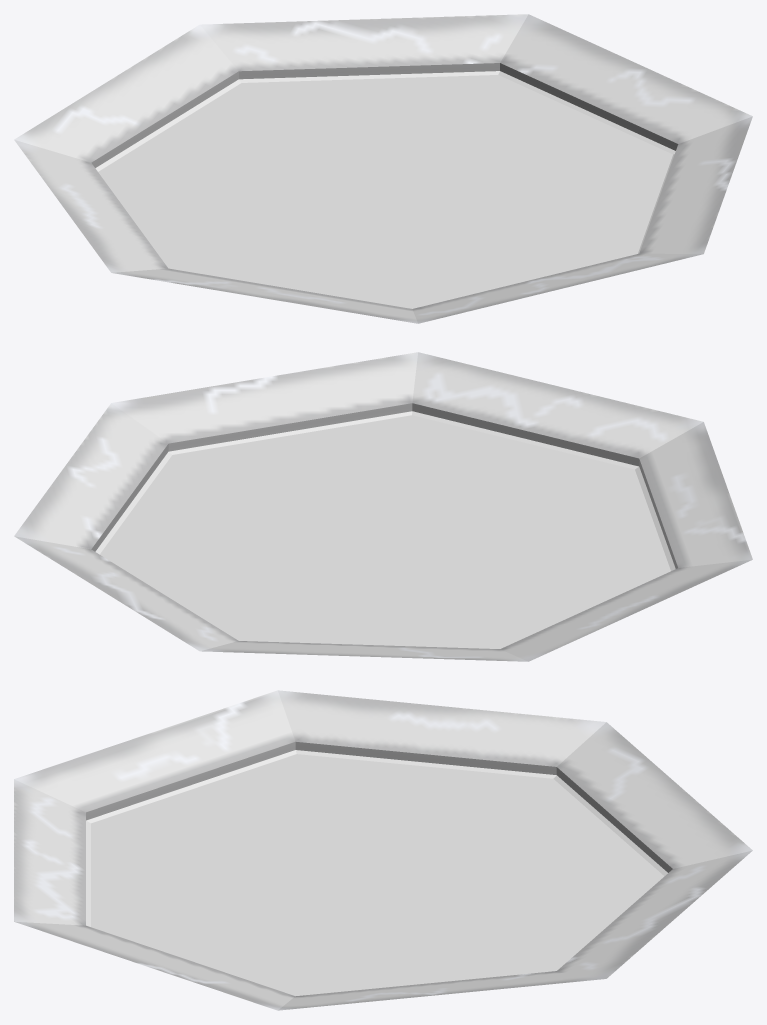
File: plate.fbx
3 views of the same model, one above another, from view 1: azimuth 30°, elevation 25°; view 2: azimuth 150°, elevation 25°; view 3: azimuth 270°, elevation 25° (orthographic). The views are drawn at different scales.
Visible parts, largest first — view 1: Cylinder; view 2: Cylinder; view 3: Cylinder.
Boxes of the visible parts, <box> form: Cylinder: <box>14,14,752,323</box>; Cylinder: <box>14,352,752,661</box>; Cylinder: <box>14,690,752,1010</box>.
Bounding box in the file's own units: 59.57 × 3.12 × 58.08.
